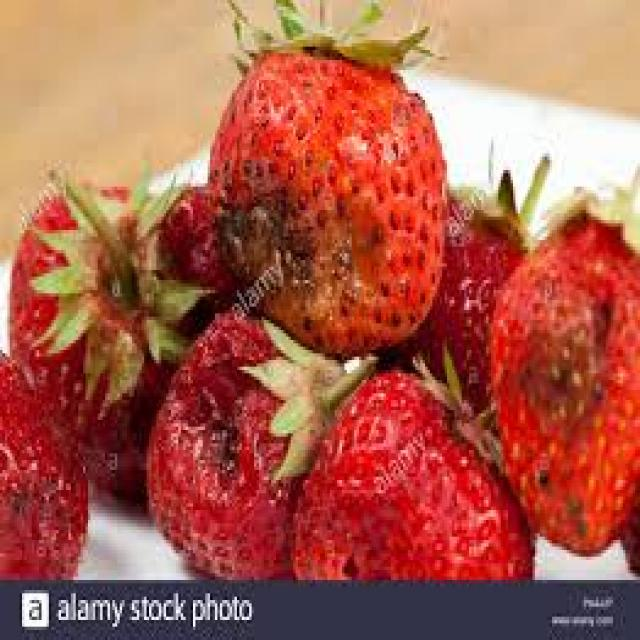organic waste: (200, 0, 445, 350), (8, 170, 228, 503), (144, 306, 376, 576), (486, 154, 638, 554), (288, 350, 533, 573), (383, 144, 544, 414), (0, 346, 85, 573), (616, 510, 638, 567)
